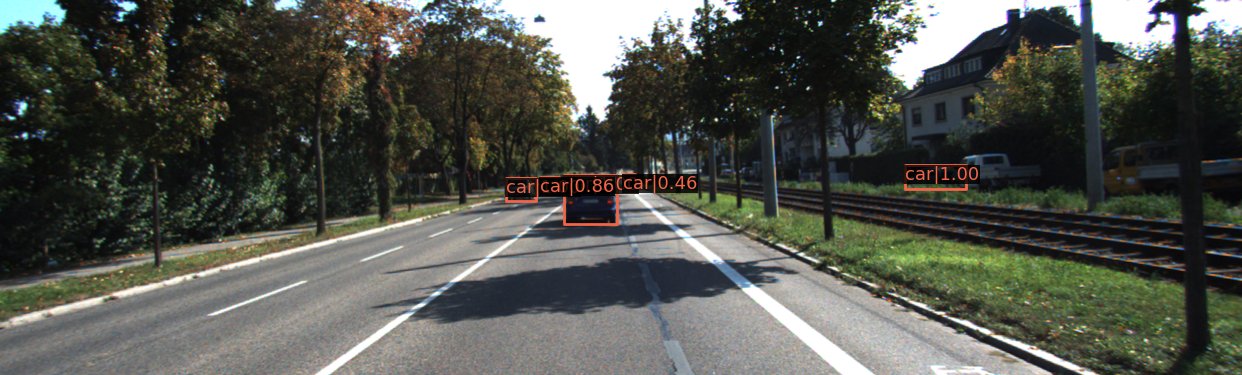car: (567, 177, 619, 228), (905, 166, 966, 192), (507, 179, 535, 202)
